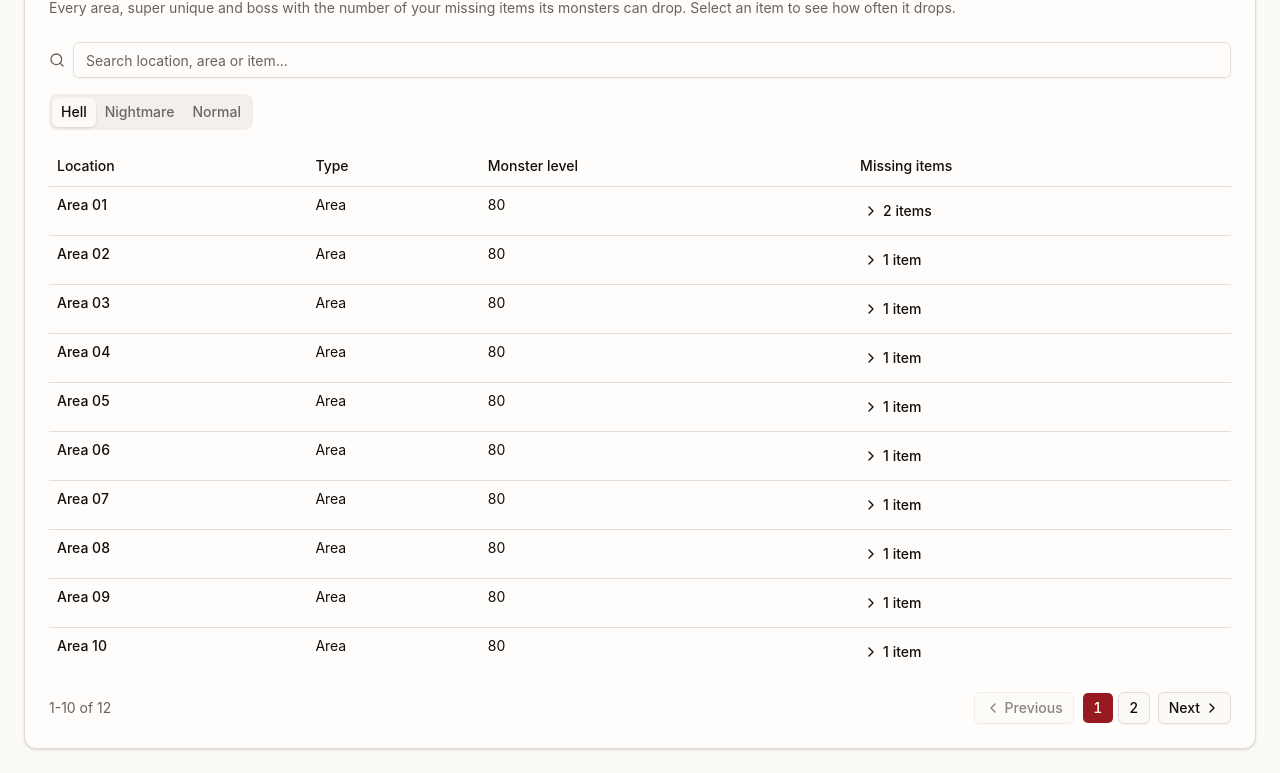
Test case: When the farming advisor page is shown › If a search is made on a later page, Then the results start at the first page
The width and height of the screenshot is (1280, 773).
(page scrolled)
Check: the text "Area 01" is shown, box [57, 196, 107, 212]
Click the button "Next": (1194, 708) [1158, 692, 1231, 724]
(page scrolled)
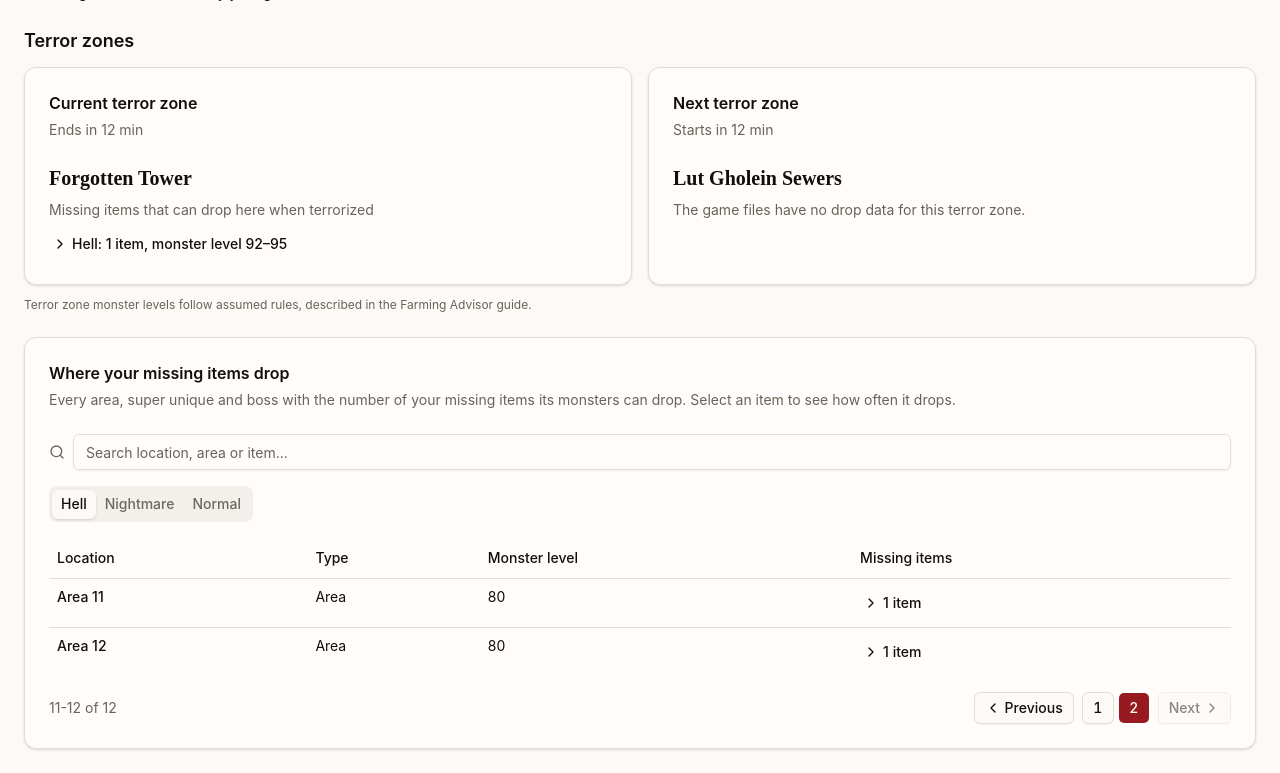
In the search field named "Search locations": (652, 452) [73, 434, 1231, 470], type "area"
(page scrolled)
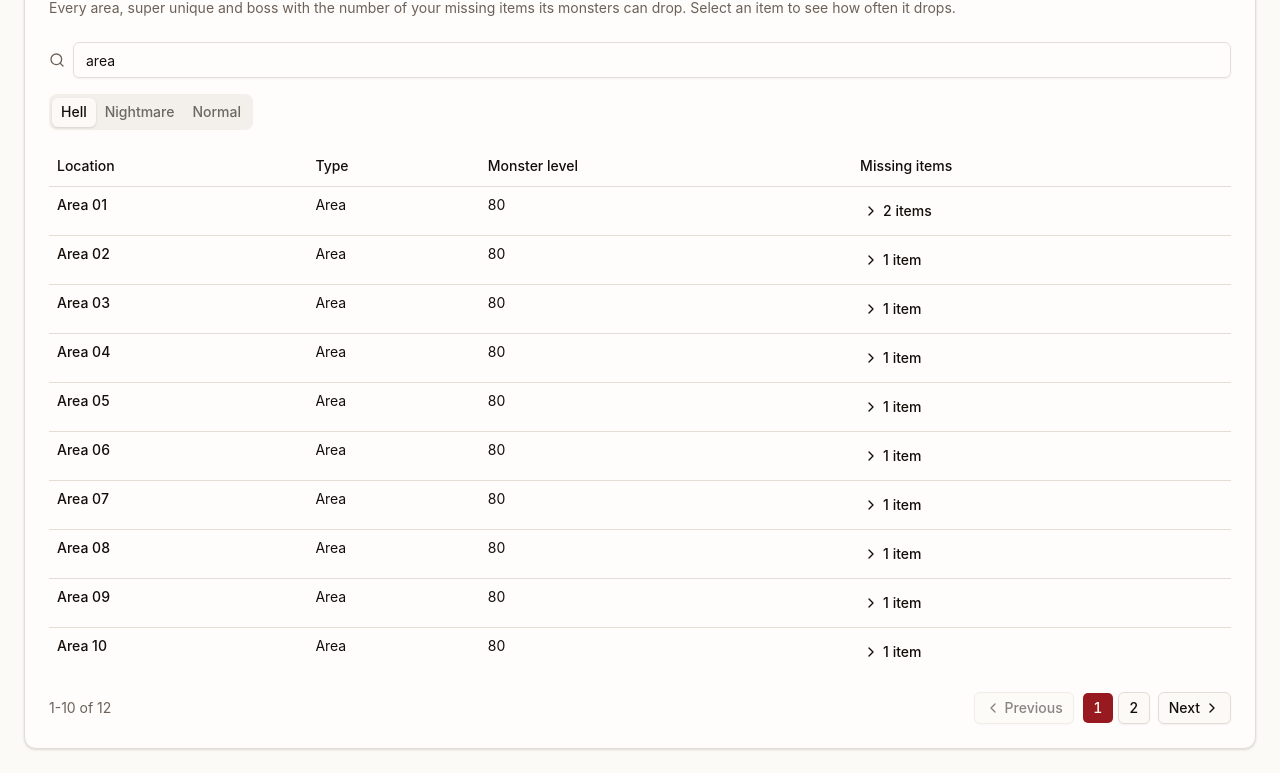
Check: the text "Area 01" is shown, box [57, 196, 107, 212]
Check: the text "1-10 of 12" is shown, box [49, 698, 111, 718]
